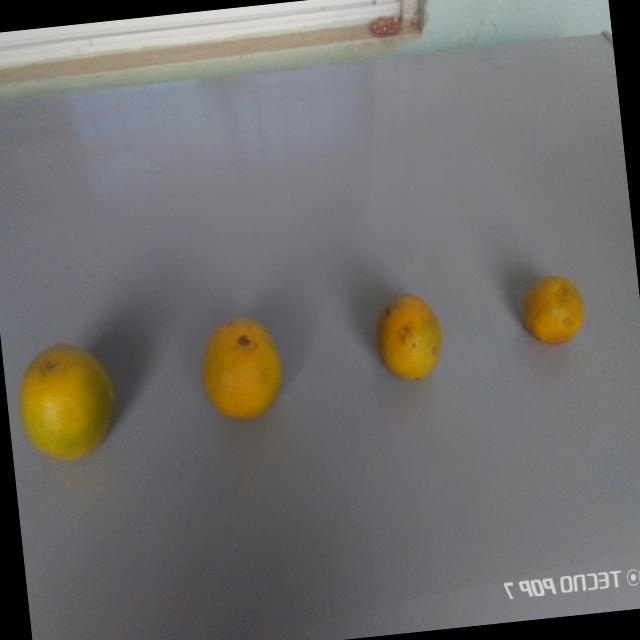agrume: (12, 330, 126, 469), (190, 308, 290, 432), (371, 284, 449, 386), (516, 267, 590, 357)
